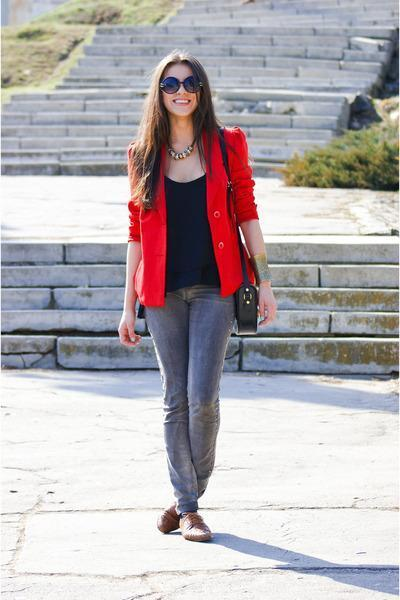bag: (198, 142, 269, 337)
jacket: (128, 128, 258, 310)
pants: (156, 285, 239, 515)
shirt: (165, 174, 220, 296)
shoe: (158, 510, 214, 542)
